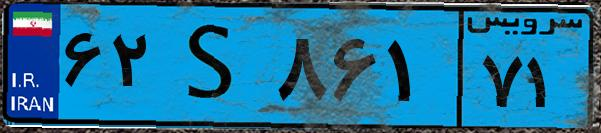1: (385, 28, 445, 110), (525, 38, 570, 115)
2: (110, 28, 158, 98)
6: (330, 28, 385, 110), (57, 26, 110, 100)
7: (475, 38, 525, 113)
8: (270, 28, 330, 110)
S: (158, 12, 270, 120)
